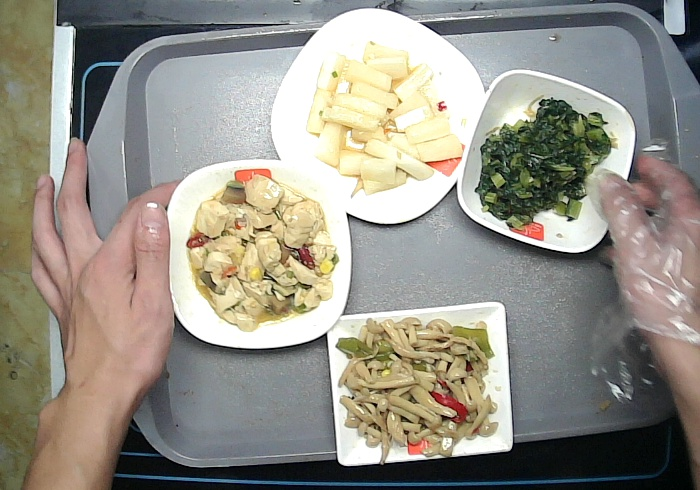SHKJ-Bai_Se_Cai_Die: (159, 156, 354, 353)
SHKJ-Bai_Se_Si_Fang_Cai_Die: (268, 6, 488, 230)
SHKJ-Bai_Se_Xiao_Fang_Die: (454, 67, 639, 257)
SHKJ-Si_Fang_Min: (322, 297, 518, 471)
